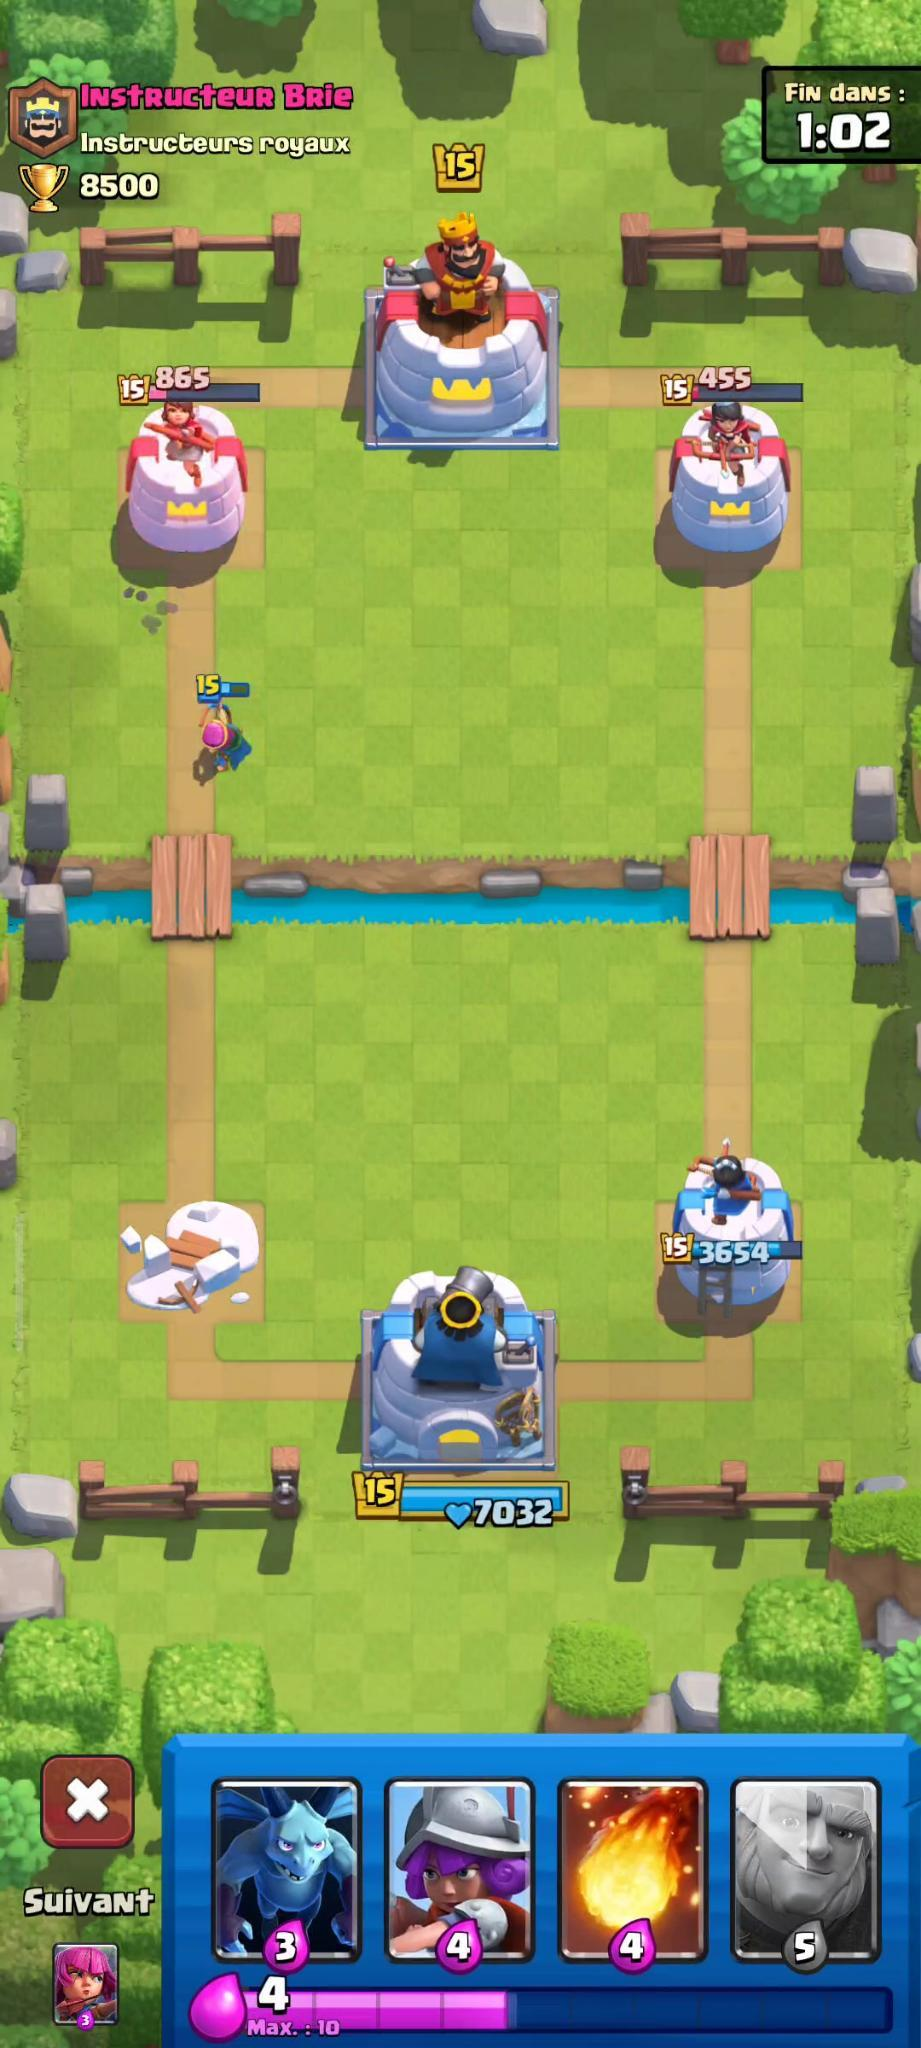player_archers: (175, 665, 268, 792)
